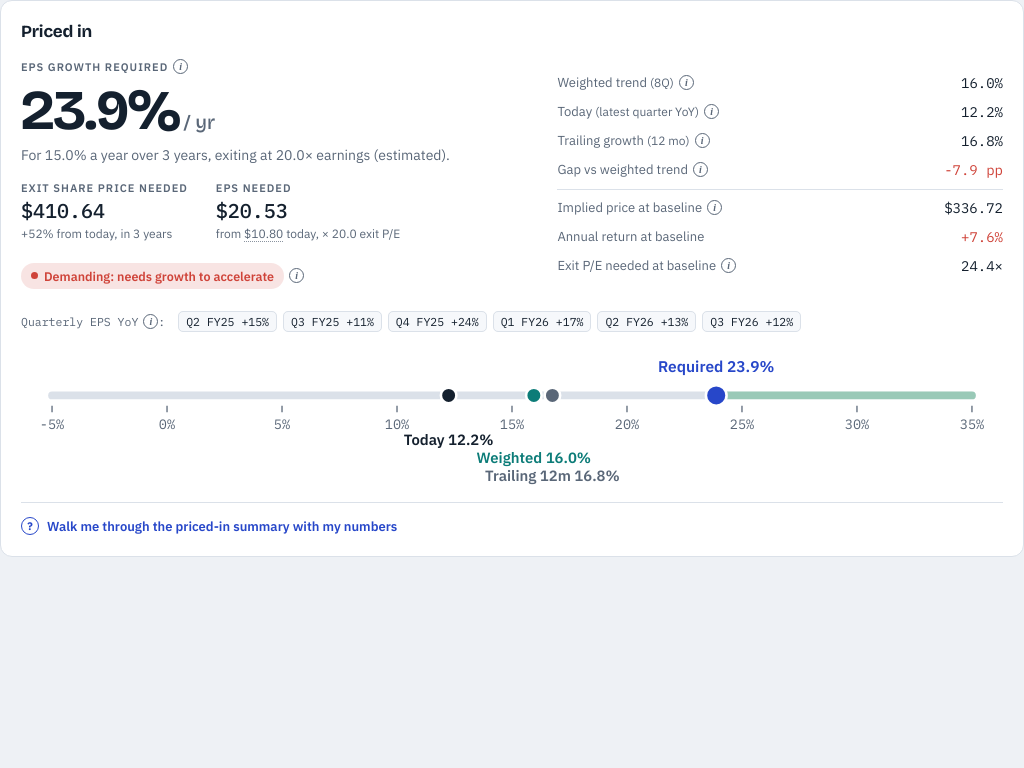
Scenario: the walkthrough of the priced-in summary › highlights the big number first, with the user's requirement
The width and height of the screenshot is (1024, 768).
Click the button "Walk me through the priced-in summary with my numbers": (209,526) [21, 515, 397, 538]
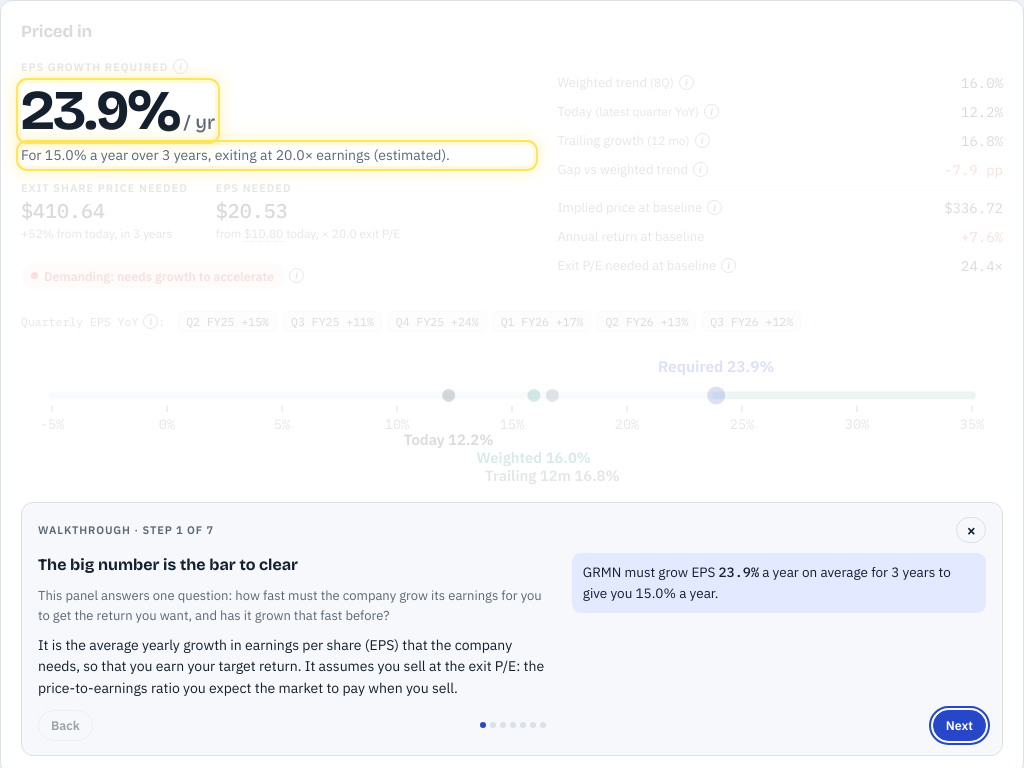
Result: the element named "Walkthrough of the priced-in summary" shows "step 1 of 7" at [21, 502, 1003, 756]
Result: the element named "Walkthrough of the priced-in summary" shows "GRMN must grow EPS 23.9% a year on average for 3 years to give you 15.0% a year." at [21, 502, 1003, 756]
